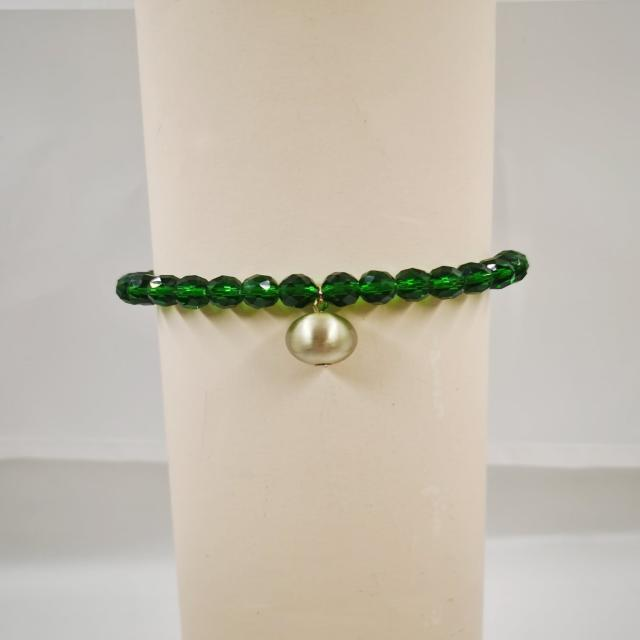bracelet: (107, 227, 640, 390)
